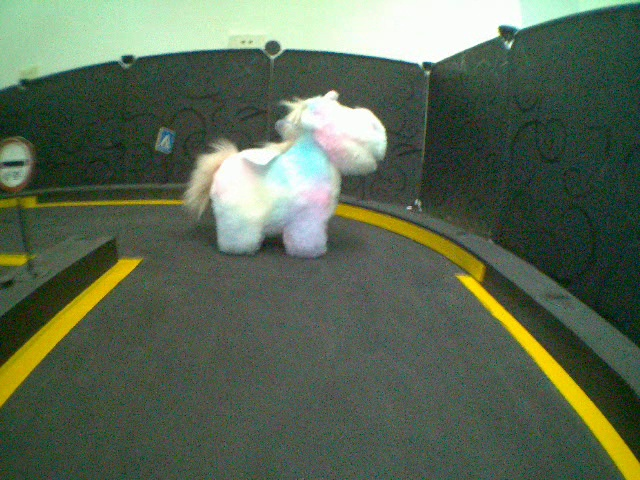unicorn: (182, 91, 393, 264)
